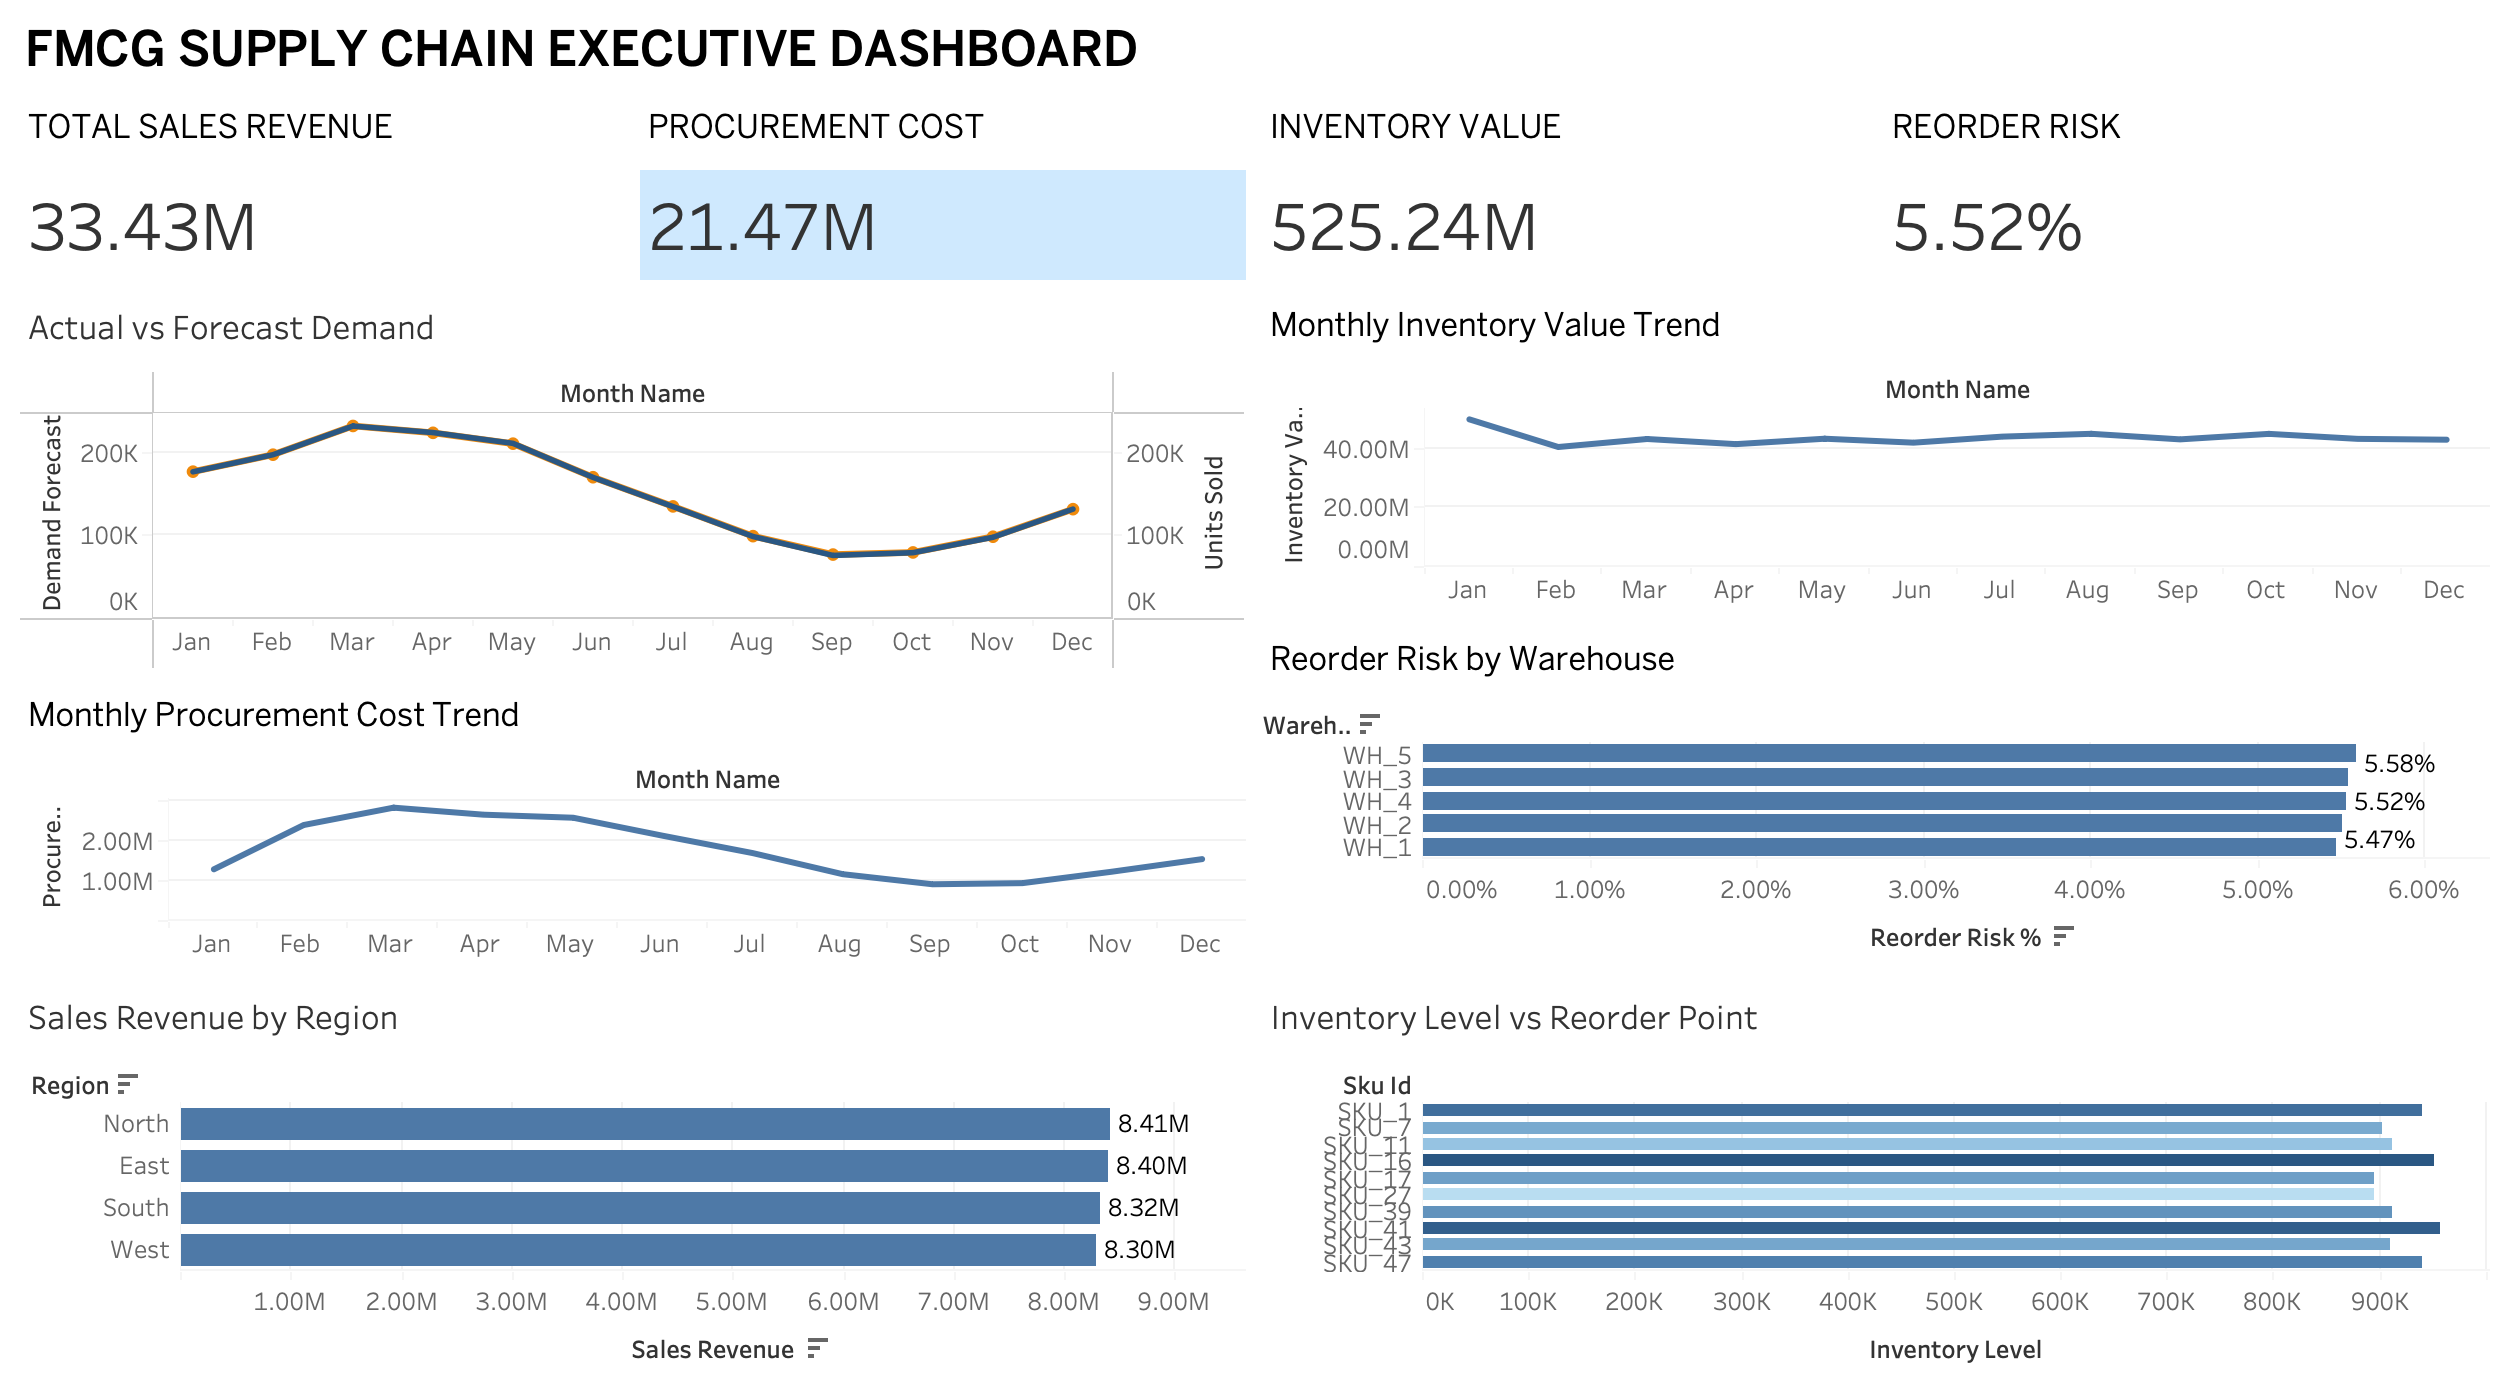

Layout of this report page (visuals, bound fields, positions):
{"tool":"tableau","page":{"name":"Dashboard 1","canvas":[1000,1000],"units":"permille","ordinal":0},"visuals":[{"type":"title","box":[6.4,11.3,987.3,56.7]},{"type":"worksheet","title":"Total Sales Revenue","mark":"Automatic","box":[6.4,68.1,246.6,140.4]},{"type":"worksheet","title":"Total Procurement Cost","mark":"Automatic","box":[253,68.1,246.6,140.4]},{"type":"worksheet","title":"Cumulative Inventory Value","mark":"Automatic","box":[499.6,68.1,247,140.4]},{"type":"worksheet","title":"KPI - Reorder Risk","mark":"Automatic","box":[746.6,68.1,247,140.4]},{"type":"worksheet","title":"Actual vs Forecast Demand","mark":"Line","rows":["Demand_Forecast","Units_Sold"],"cols":["Month_Name"],"box":[6.4,208.5,493.6,275.9]},{"type":"worksheet","title":"Inventory Trend ","mark":"Line","rows":["Inventory_Value"],"cols":["Month_Name"],"box":[500,208.5,493.7,236.9]},{"type":"worksheet","title":"Reorder Risk by Warehouse","mark":"Bar","rows":["Warehouse_ID"],"cols":["Calculation_1098582667874304"],"box":[500,445.4,493.7,252.5]},{"type":"worksheet","title":"Procurement Cost Trend","mark":"Line","rows":["Procurement_Cost"],"cols":["Month_Name"],"box":[6.4,484.4,493.6,213.5]},{"type":"worksheet","title":"Sales Revenue by Region","mark":"Bar","rows":["Region"],"cols":["Sales_Revenue"],"box":[6.4,697.9,493.6,290.8]},{"type":"worksheet","title":"Inventory Level vs Reorder Point","mark":"Automatic","rows":["SKU_ID"],"cols":["Inventory_Level"],"box":[500,697.9,493.7,290.8]}]}

Visuals, with their boxes on the dashboard's canvas, which has no fixed pixel size, in thousandths of its width and height (x1, y1, x2, y2). These are canvas units, not pixel positions in the 2500x1390 screenshot, which may show the page scaled, cropped or inside an application window:
title: box(6, 11, 994, 68)
"Total Sales Revenue" worksheet: box(6, 68, 253, 208)
"Total Procurement Cost" worksheet: box(253, 68, 500, 208)
"Cumulative Inventory Value" worksheet: box(500, 68, 747, 208)
"KPI - Reorder Risk" worksheet: box(747, 68, 994, 208)
"Actual vs Forecast Demand" worksheet (Line marks): box(6, 208, 500, 484)
"Inventory Trend " worksheet (Line marks): box(500, 208, 994, 445)
"Reorder Risk by Warehouse" worksheet (Bar marks): box(500, 445, 994, 698)
"Procurement Cost Trend" worksheet (Line marks): box(6, 484, 500, 698)
"Sales Revenue by Region" worksheet (Bar marks): box(6, 698, 500, 989)
"Inventory Level vs Reorder Point" worksheet: box(500, 698, 994, 989)
